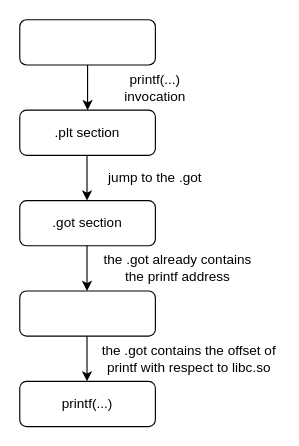
Image size: 299x446. Some labels were removed from this diagram. Each missing label, with the box of its shape:
libc.so: (19, 290, 155, 336)
MAIN: (19, 19, 155, 65)
